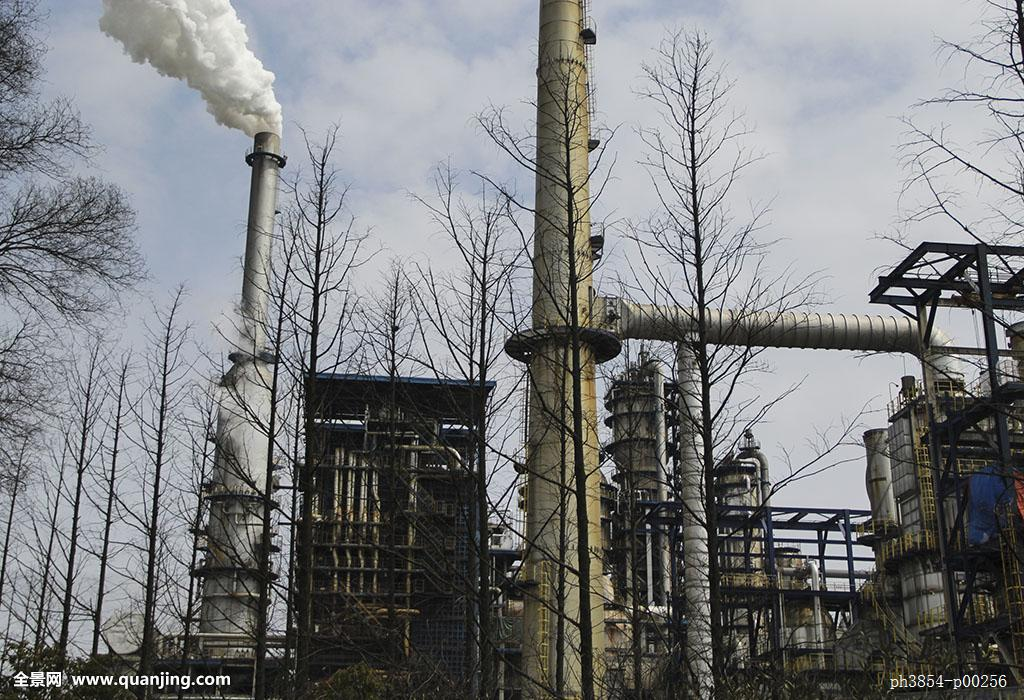dust: (99, 1, 297, 149)
